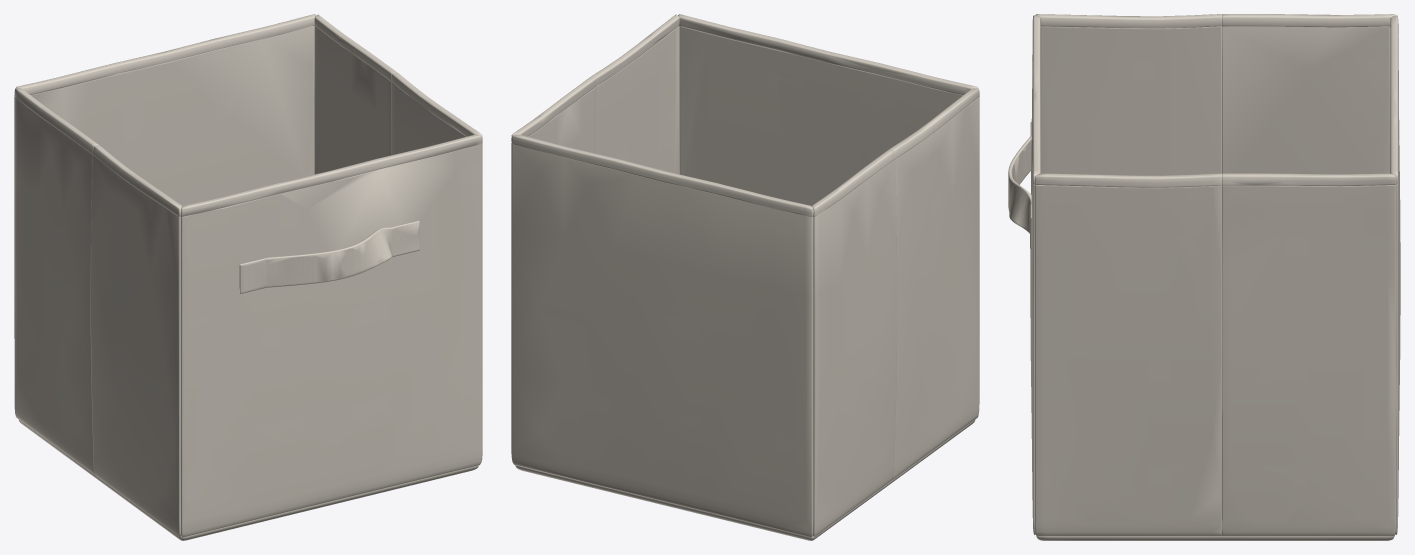
Rendered from B0711RQMNF.glb.
3 renders of one model, left to right at view 1: azimuth 30°, elevation 25°; view 2: azimuth 150°, elevation 25°; view 3: azimuth 270°, elevation 25°, orthographic. The views are drawn at different scales.
Parts seen in each view (by area): view 1: B001EDURXW; view 2: B001EDURXW; view 3: B001EDURXW.
Boxes of the visible parts, <box> form: B001EDURXW: <box>14,14,482,540</box>; B001EDURXW: <box>511,14,979,540</box>; B001EDURXW: <box>1008,14,1400,540</box>.
Size of the model in its own units: 0.27 by 0.2799 by 0.27.
1 material, 1 textured.
